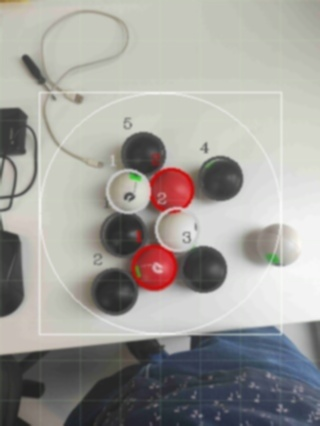Pelota blanca: (36, 9, 129, 94), (42, 89, 126, 168), (0, 105, 38, 211), (180, 244, 227, 294), (153, 206, 201, 254), (103, 166, 150, 214), (255, 222, 302, 267)
Pelota negra: (90, 268, 139, 318), (180, 244, 227, 294), (98, 212, 147, 259), (119, 129, 166, 176), (196, 156, 243, 200)
Pelota roja: (129, 244, 177, 291), (148, 166, 195, 211)
